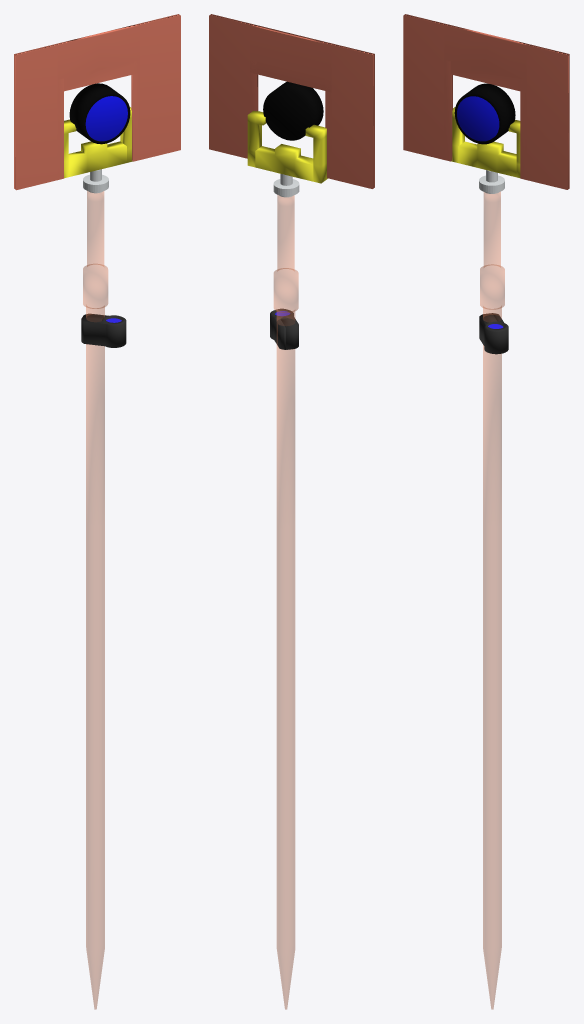
The model's file is reflektor.gltf.
The picture shows the model from 3 angles, left to right: view 1: azimuth 30°, elevation 25°; view 2: azimuth 150°, elevation 25°; view 3: azimuth 330°, elevation 25°; orthographic projection.
Parts seen in each view (by area): view 1: Cube.001, Cylinder.003, Cube.002, Cylinder.001, Cylinder.004, Cylinder, Cylinder.002; view 2: Cube.001, Cylinder.003, Cube.002, Cylinder, Cylinder.004, Cylinder.002; view 3: Cube.001, Cylinder.003, Cube.002, Cylinder.001, Cylinder, Cylinder.004, Cylinder.002.
Boxes of the visible parts, <box> form: Cube.001: <box>14,14,180,190</box>; Cylinder.003: <box>83,191,107,1009</box>; Cube.002: <box>64,106,132,178</box>; Cylinder.001: <box>85,96,127,141</box>; Cylinder.004: <box>81,313,126,347</box>; Cylinder: <box>69,83,130,144</box>; Cylinder.002: <box>83,169,108,193</box>; Cube.001: <box>209,14,374,188</box>; Cylinder.003: <box>274,195,298,1009</box>; Cube.002: <box>247,110,327,183</box>; Cylinder: <box>263,81,323,140</box>; Cylinder.004: <box>270,308,298,349</box>; Cylinder.002: <box>273,174,299,197</box>; Cube.001: <box>403,14,569,189</box>; Cylinder.003: <box>480,192,504,1009</box>; Cube.002: <box>451,107,520,177</box>; Cylinder.001: <box>457,96,499,141</box>; Cylinder: <box>454,83,515,144</box>; Cylinder.004: <box>479,313,508,354</box>; Cylinder.002: <box>479,170,504,193</box>.
Size of the model in its own units: 2.58 by 14.64 by 0.5381.
